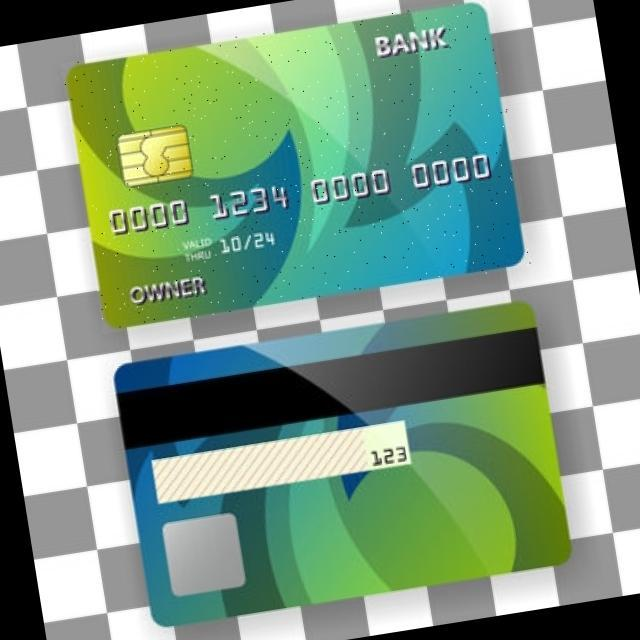payment_card: (64, 1, 526, 328), (114, 300, 569, 627)
